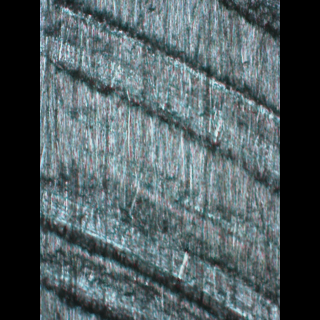d: (40, 0, 277, 195), (42, 182, 279, 317)
